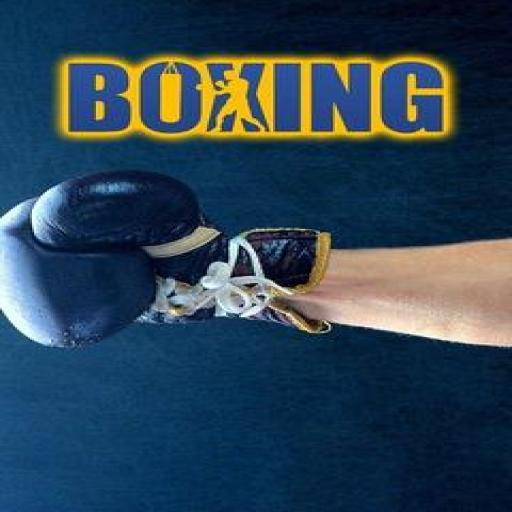boxing: (0, 166, 510, 352)
